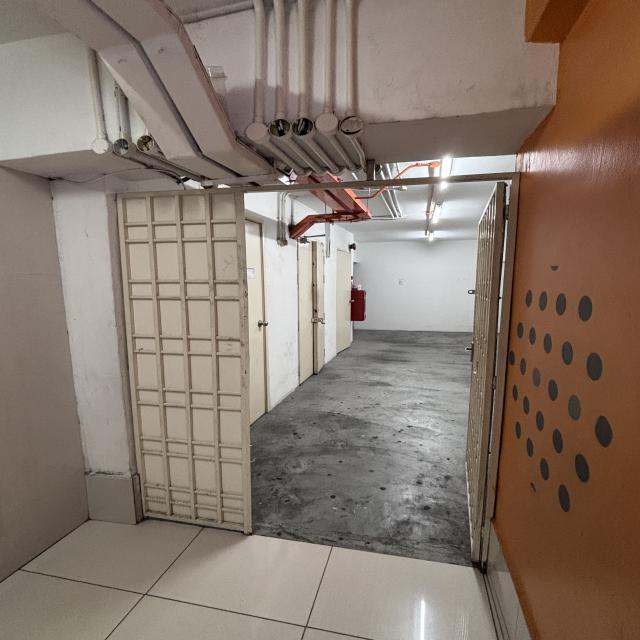door: (106, 172, 519, 568)
